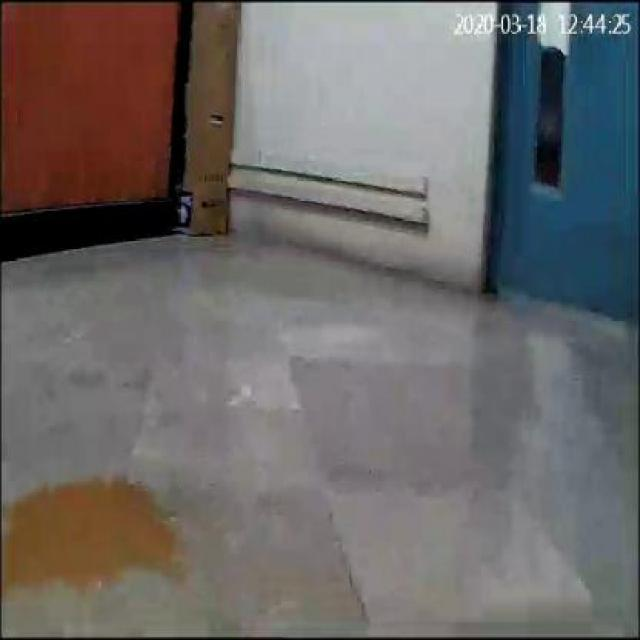spill: (4, 475, 188, 591)
